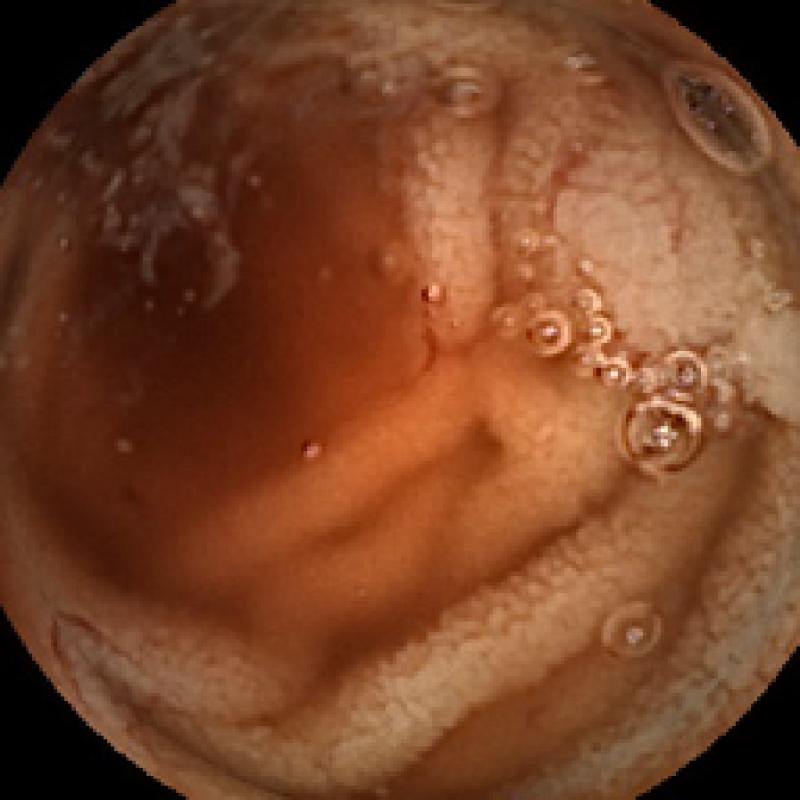bleeding: (38, 596, 143, 719), (389, 275, 464, 379)
